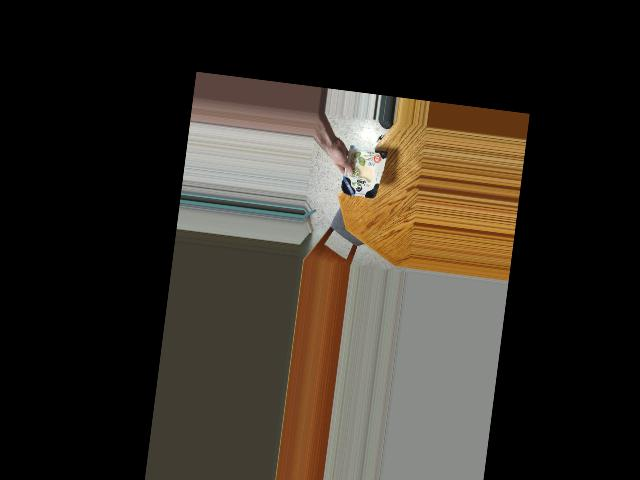cheese: (336, 135, 382, 205)
